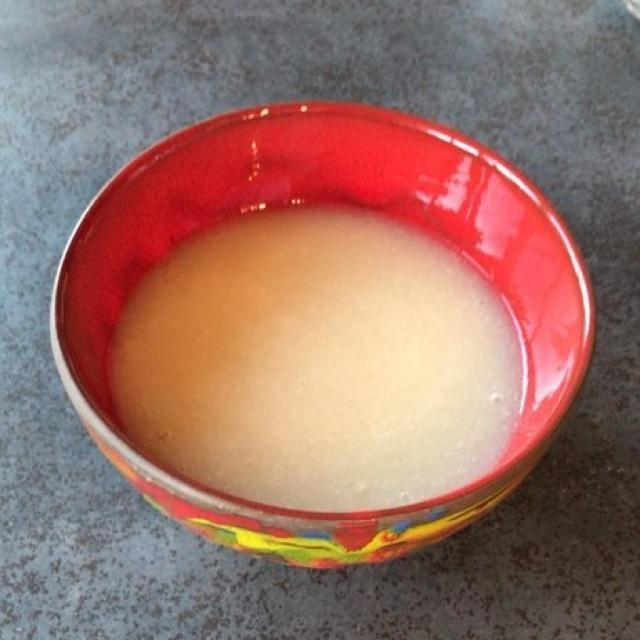applesauce: (124, 205, 520, 493)
